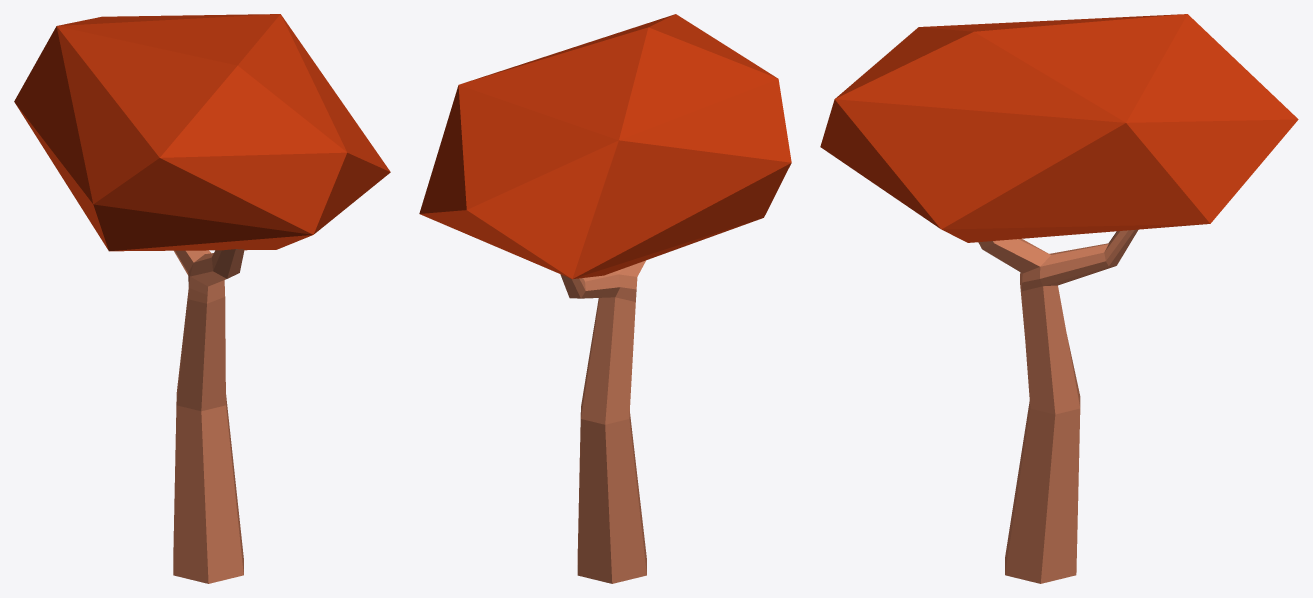
Rendered from Tree_07_summer_red_mat.fbx.
3 views of the same model, side by side, from view 1: azimuth 30°, elevation 25°; view 2: azimuth 150°, elevation 25°; view 3: azimuth 270°, elevation 25° (orthographic). The views are drawn at different scales.
Visible parts, largest first — view 1: Tree_07_summer_red_mat; view 2: Tree_07_summer_red_mat; view 3: Tree_07_summer_red_mat.
Part boxes in pixels (x1,y1,x2,y2): Tree_07_summer_red_mat: (14,14,390,583); Tree_07_summer_red_mat: (419,14,791,583); Tree_07_summer_red_mat: (820,14,1298,583).
Bounding box in the file's own units: 134 × 238 × 194.
